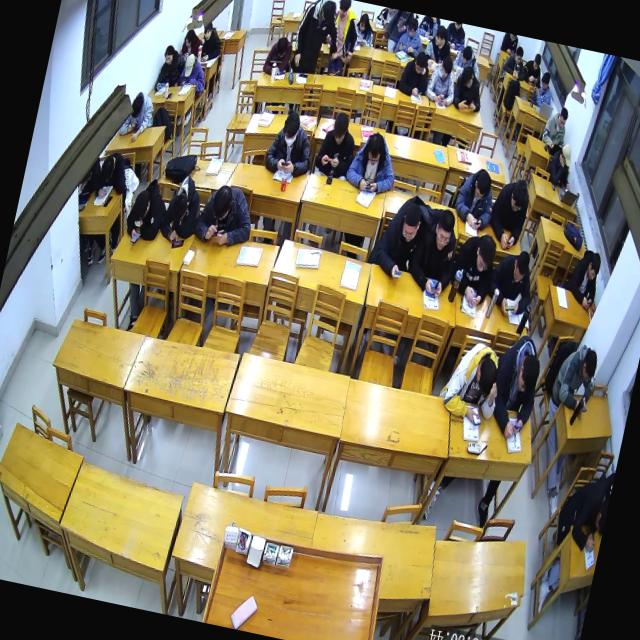bow: (190, 180, 258, 250), (552, 475, 612, 554), (156, 170, 207, 244), (121, 173, 170, 243), (118, 86, 158, 142), (93, 148, 131, 200), (451, 44, 484, 78)
down: (514, 352, 542, 394), (472, 355, 499, 396), (472, 232, 498, 274), (398, 201, 424, 242), (432, 208, 456, 252), (210, 184, 234, 222), (508, 177, 530, 212), (280, 112, 300, 147), (510, 250, 530, 284), (579, 348, 599, 382), (131, 188, 152, 220), (330, 112, 349, 146), (471, 170, 490, 202), (170, 190, 190, 220), (366, 132, 384, 164), (593, 498, 609, 534), (585, 251, 602, 281), (99, 153, 116, 180), (129, 94, 145, 118), (558, 144, 574, 168), (182, 52, 196, 78), (320, 0, 337, 21), (460, 66, 476, 88), (413, 52, 427, 74), (274, 36, 288, 56), (538, 70, 552, 90), (162, 44, 175, 65), (556, 106, 568, 128), (337, 0, 351, 18), (512, 46, 524, 66), (183, 30, 194, 48), (358, 14, 369, 32), (532, 53, 542, 70), (452, 22, 460, 30), (509, 34, 517, 42)
lookup: (202, 22, 214, 40)
sit: (484, 329, 547, 439), (434, 334, 507, 428), (365, 187, 436, 282), (407, 204, 464, 298), (287, 0, 346, 79), (446, 228, 499, 308), (343, 126, 402, 195), (548, 339, 601, 414), (484, 245, 538, 318), (263, 108, 319, 176), (484, 173, 532, 250), (320, 0, 365, 77), (312, 109, 360, 181), (452, 164, 499, 230), (562, 246, 604, 310), (423, 54, 461, 106), (397, 48, 433, 97), (542, 141, 578, 190), (452, 64, 488, 112), (176, 52, 208, 99), (154, 44, 185, 92), (392, 15, 426, 56), (540, 104, 571, 148), (422, 23, 456, 63), (262, 33, 294, 75), (197, 21, 225, 63), (501, 44, 530, 82), (528, 68, 556, 107), (520, 50, 546, 87), (352, 12, 377, 48), (180, 27, 202, 59)
